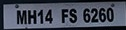character: (15, 9, 26, 24), (27, 9, 36, 24), (90, 7, 98, 23), (44, 9, 52, 24), (60, 8, 68, 23), (68, 8, 76, 23), (82, 8, 90, 23), (98, 7, 105, 22), (106, 7, 113, 22), (37, 9, 43, 24)
